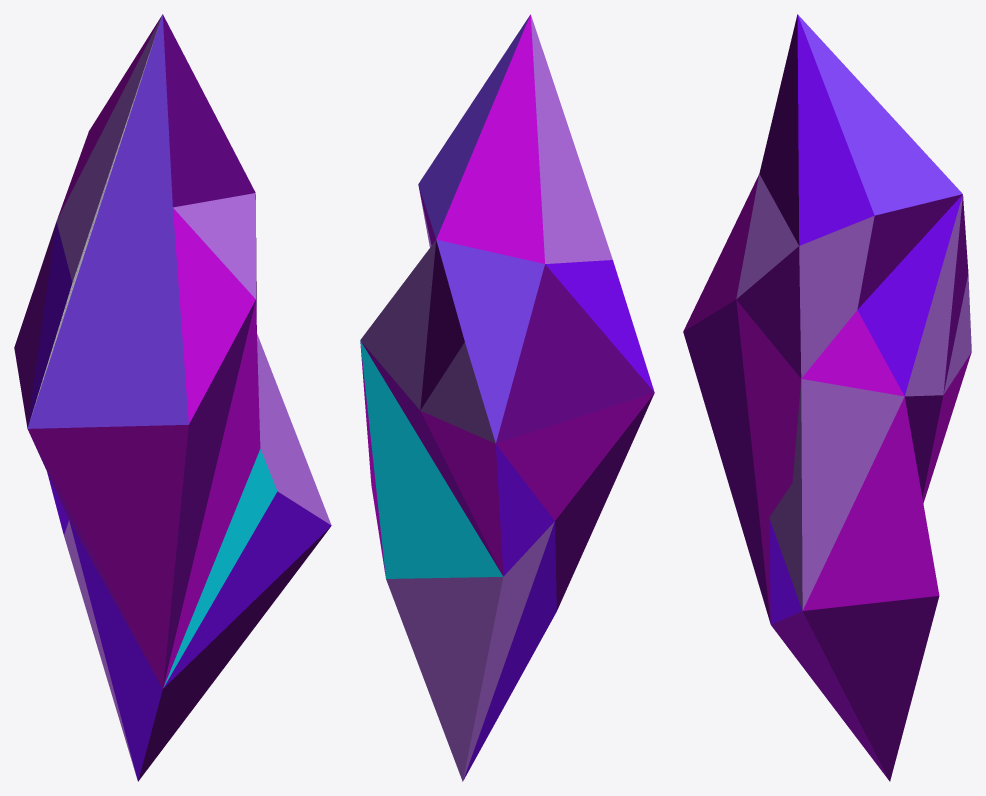
The model's file is shard0.glb.
3 views of the same model, side by side, from view 1: azimuth 30°, elevation 25°; view 2: azimuth 150°, elevation 25°; view 3: azimuth 270°, elevation 25° (orthographic). The views are drawn at different scales.
Parts seen in each view (by area): view 1: Cube; view 2: Cube; view 3: Cube.
Boxes of the visible parts, <box> form: Cube: <box>14,14,331,781</box>; Cube: <box>360,14,654,781</box>; Cube: <box>683,14,971,781</box>.
Size of the model in its own units: 2.56 by 6.44 by 2.23.
